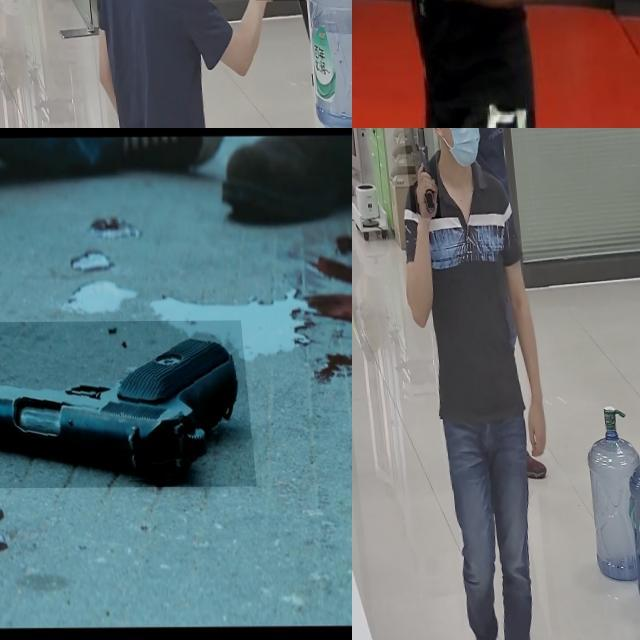-: (352, 0, 403, 55)
gun-knife-thesis - v11 Yolov5 augmented: (0, 321, 248, 489), (401, 128, 438, 218), (245, 0, 304, 43)
